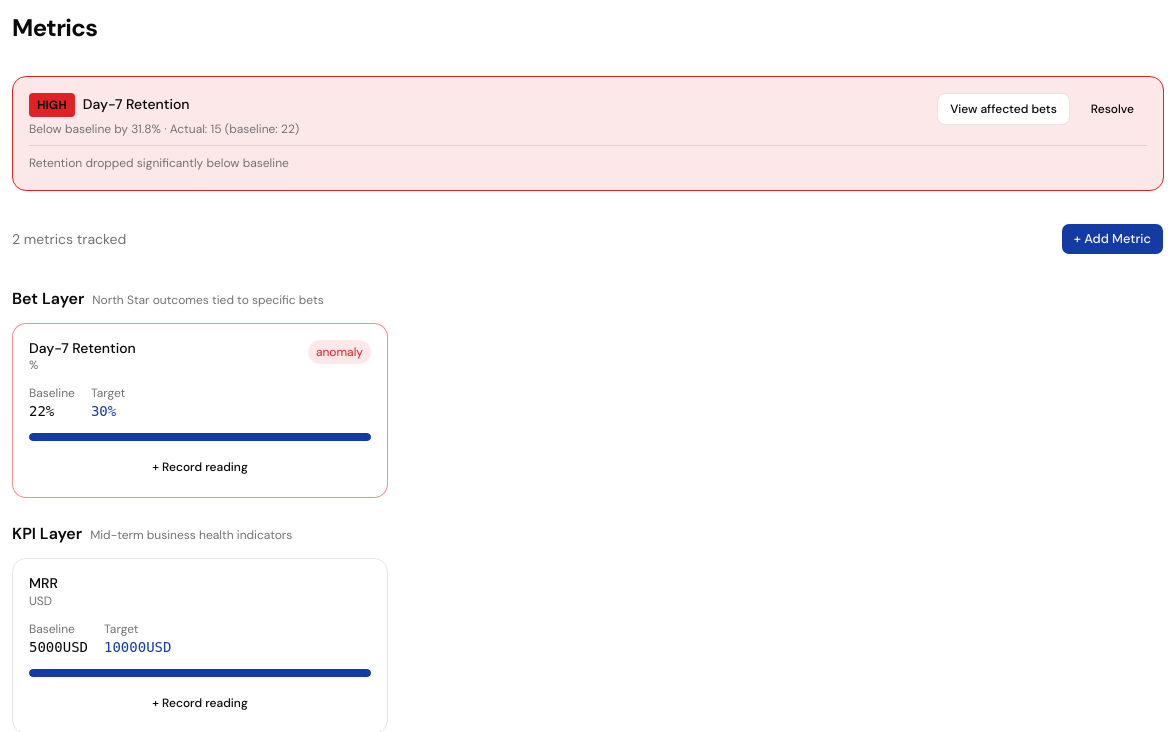
MetricsPage › resolves anomaly and removes it from list
Step 1. Click the button "Resolve" → x=1112, y=109, box 1078,93 -> 1147,125
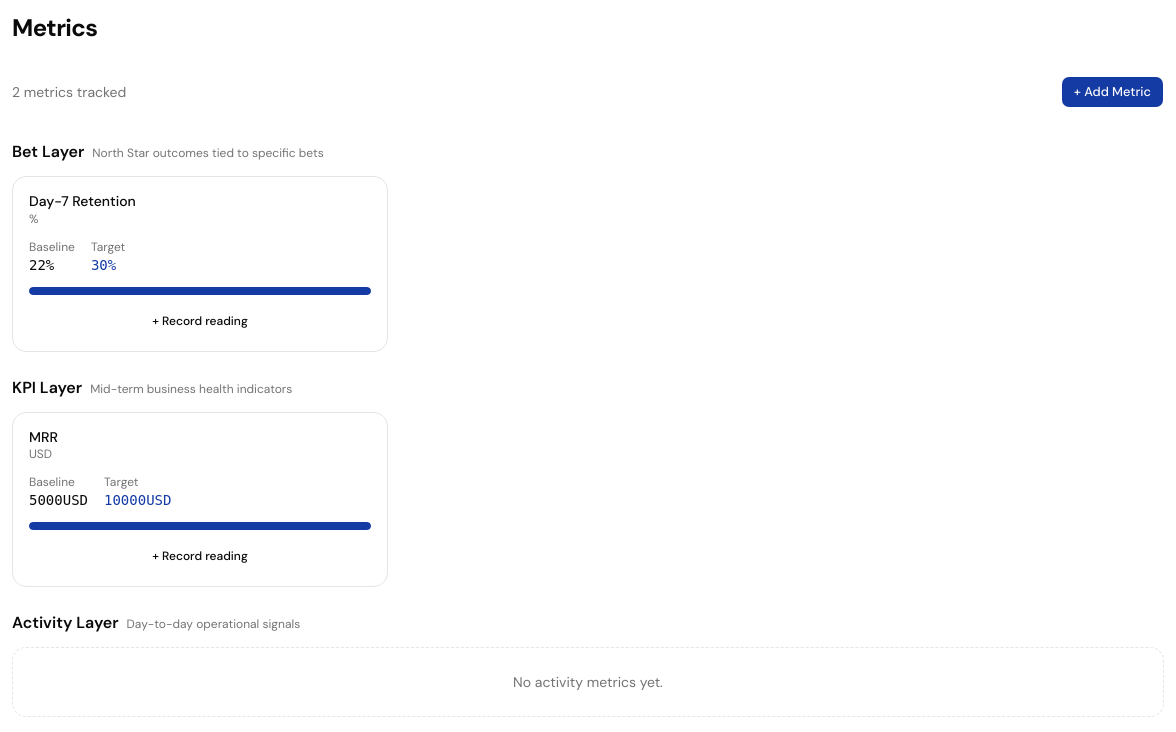
Now the text "Retention dropped significantly below baseline" is gone
